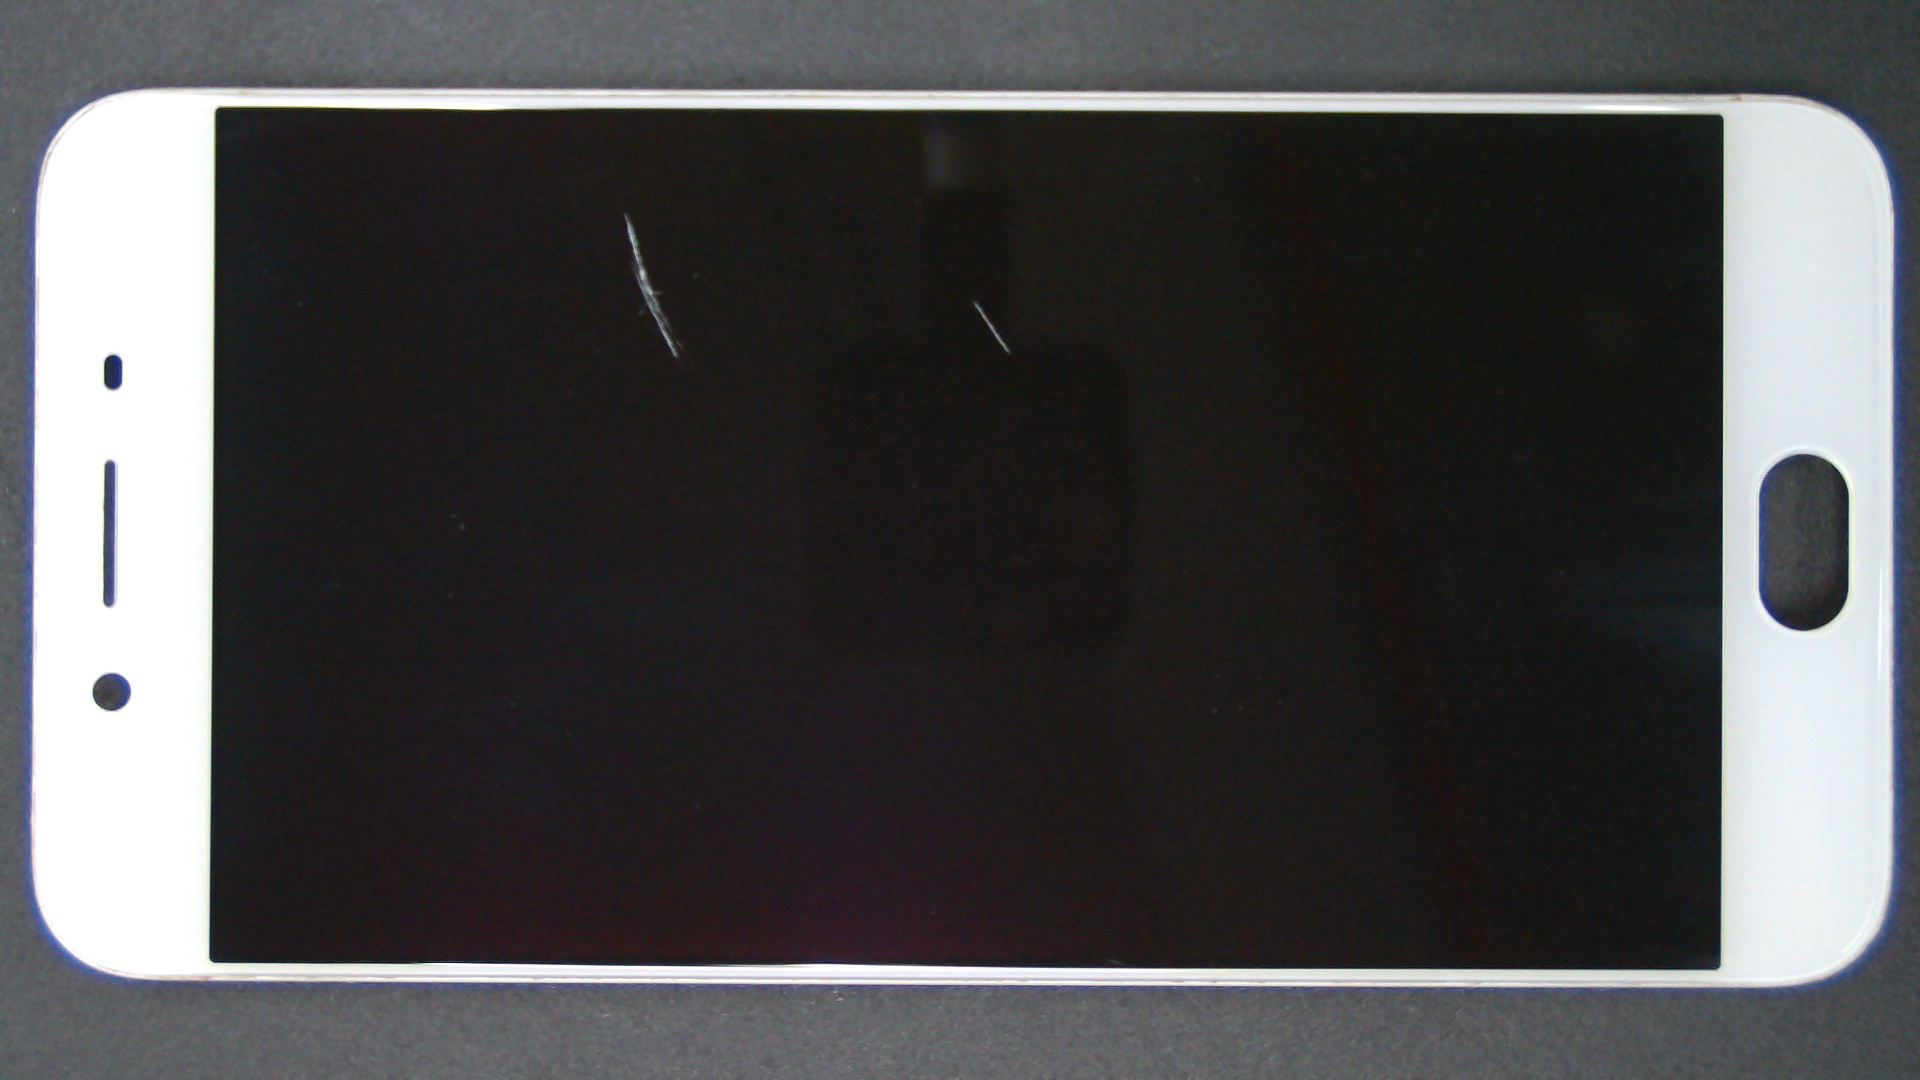defect: (622, 214, 679, 357), (973, 301, 1009, 353)
